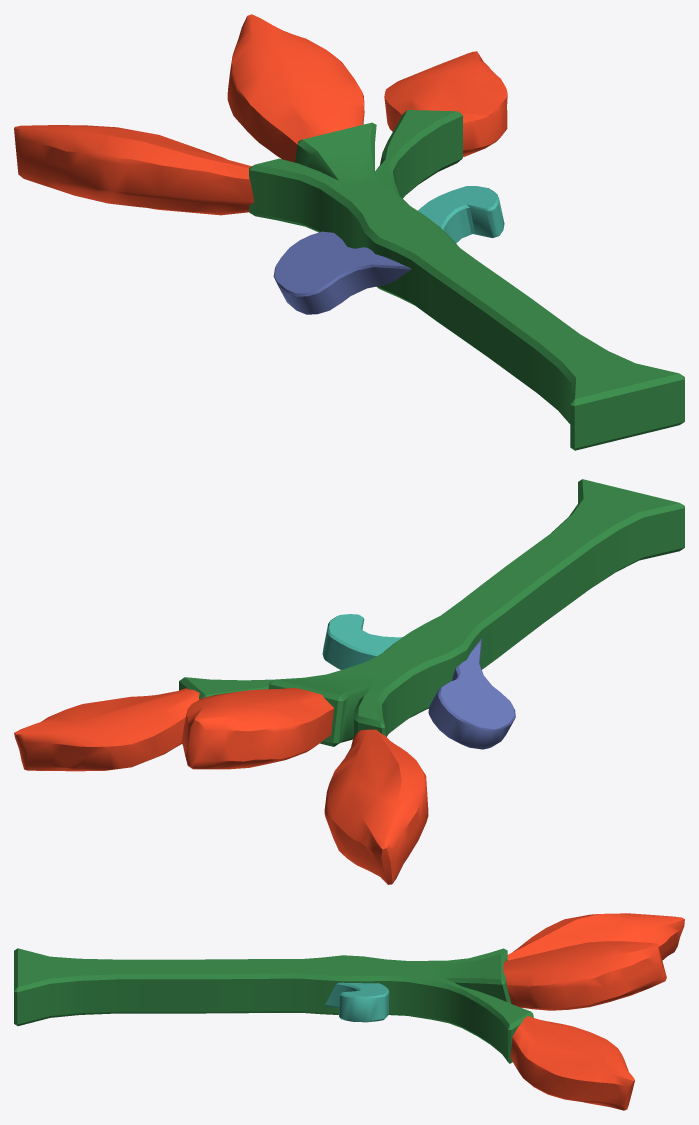
Rendered from fllower03.fbx.
The picture shows the model from 3 angles, top to bottom: view 1: azimuth 30°, elevation 25°; view 2: azimuth 150°, elevation 25°; view 3: azimuth 270°, elevation 25°; orthographic projection. The views are drawn at different scales.
Visible parts, largest first — view 1: Plane, Plane.005, Plane.002, Plane.001; view 2: Plane.005, Plane, Plane.002, Plane.001; view 3: Plane, Plane.005, Plane.001.
Part boxes in pixels (bbox=[...]): Plane: bbox=[249, 110, 684, 450]; Plane.005: bbox=[14, 14, 507, 215]; Plane.002: bbox=[273, 231, 411, 314]; Plane.001: bbox=[418, 186, 504, 243]; Plane.005: bbox=[14, 688, 428, 884]; Plane: bbox=[179, 479, 684, 746]; Plane.002: bbox=[428, 638, 515, 749]; Plane.001: bbox=[322, 614, 403, 669]; Plane: bbox=[14, 948, 533, 1063]; Plane.005: bbox=[503, 913, 684, 1110]; Plane.001: bbox=[325, 982, 389, 1022].
Size of the model in its own units: 263 by 75.01 by 464.
